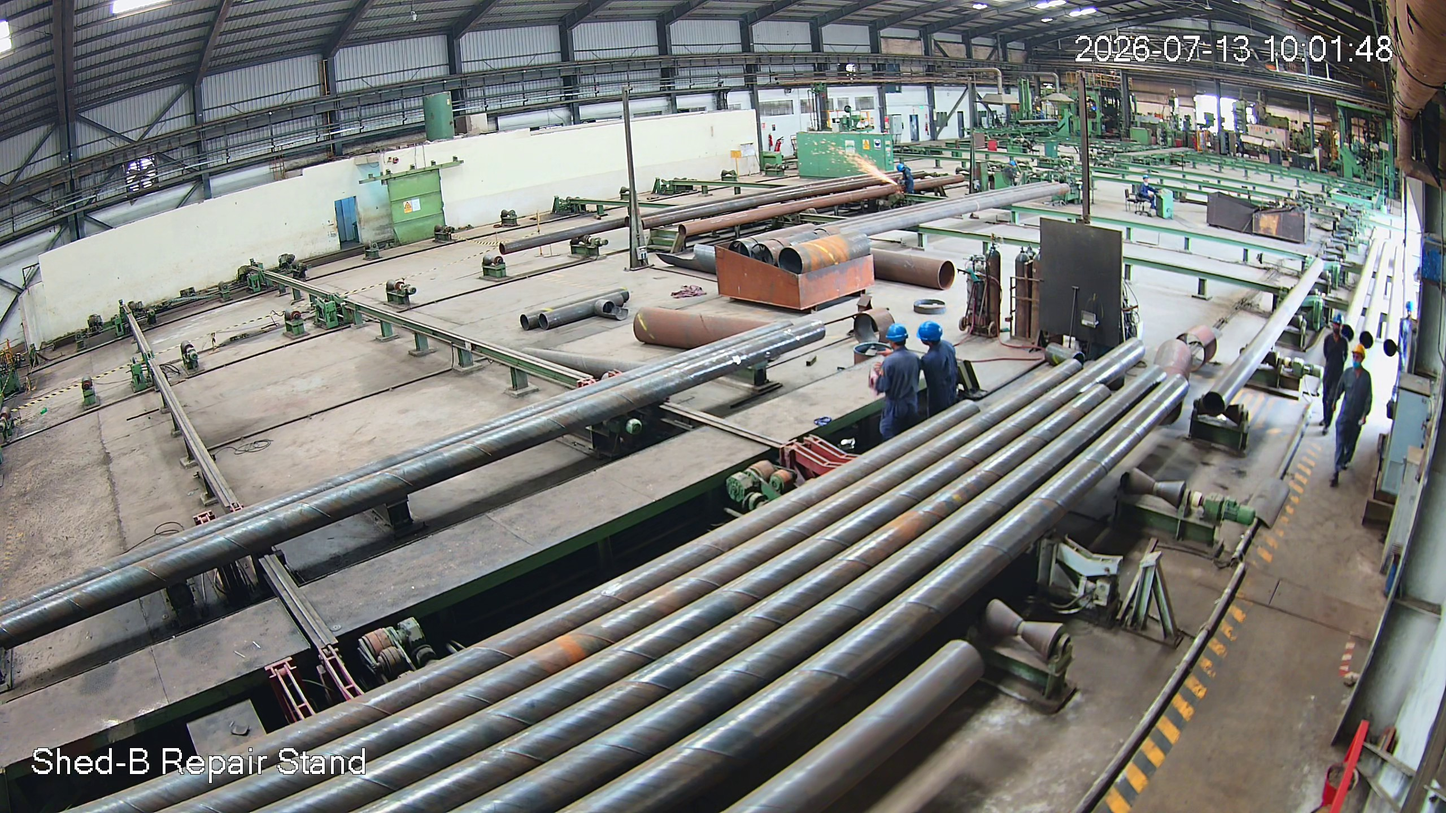Helmet: (917, 318, 946, 353), (1347, 340, 1373, 375), (885, 322, 912, 352), (1324, 313, 1349, 340)
Person: (1323, 344, 1377, 489), (874, 324, 920, 434), (918, 320, 964, 419), (1312, 316, 1349, 436)
